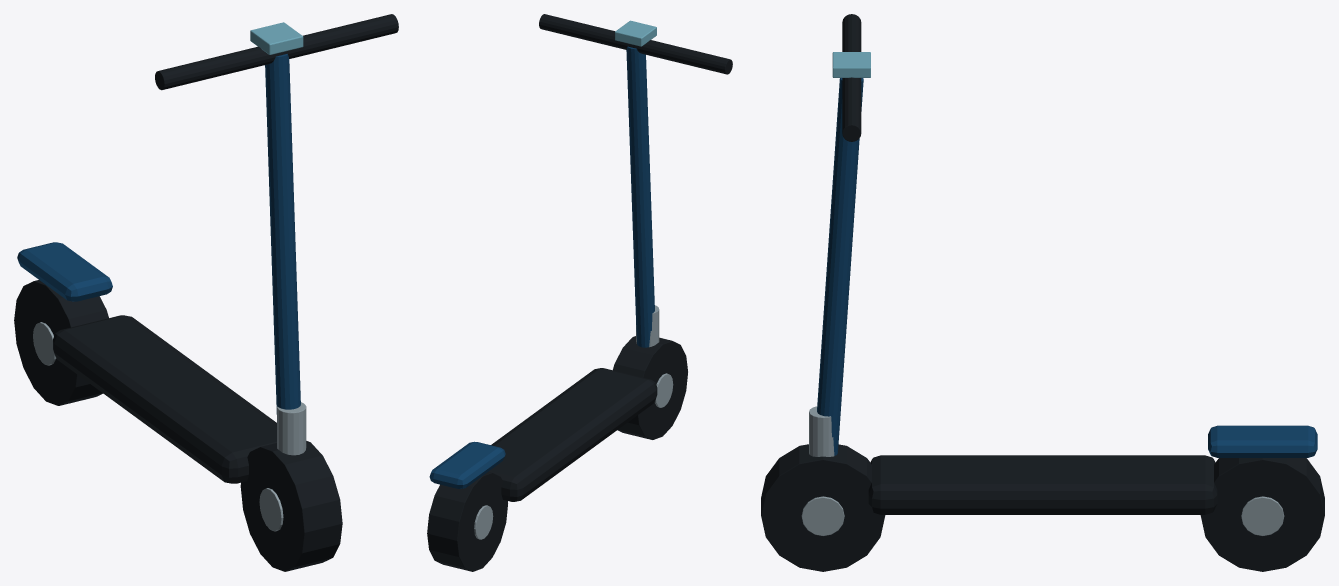
Rendered from edited.glb.
The picture shows the model from 3 angles, left to right: view 1: azimuth 30°, elevation 25°; view 2: azimuth 150°, elevation 25°; view 3: azimuth 270°, elevation 25°; orthographic projection. The views are drawn at different scales.
Visible parts, largest first — view 1: DECK, WHEEL_Axle, STEM, WHEEL_Axle.001, HANDLE, BRAKE_Fender, FORK, DISPLAY, WHEEL_Hub, WHEEL_Hub.001; view 2: DECK, STEM, WHEEL_Axle.001, WHEEL_Axle, HANDLE, BRAKE_Fender, DISPLAY, WHEEL_Hub.001, WHEEL_Hub; view 3: DECK, WHEEL_Axle, WHEEL_Axle.001, STEM, BRAKE_Fender, HANDLE, WHEEL_Hub, WHEEL_Hub.001, FORK, DISPLAY.
Boxes of the visible parts, x1,y1,x2,y2 form: DECK: (53,315,276,483); WHEEL_Axle: (240,441,342,571); STEM: (265,54,300,414); WHEEL_Axle.001: (14,280,108,405); HANDLE: (155,14,398,90); BRAKE_Fender: (17,242,112,301); FORK: (277,402,306,455); DISPLAY: (250,22,303,54); WHEEL_Hub: (259,488,283,531); WHEEL_Hub.001: (33,322,56,365); DECK: (489,368,657,501); STEM: (626,46,654,347); WHEEL_Axle.001: (427,471,507,571); WHEEL_Axle: (613,336,687,439); HANDLE: (539,14,732,74); BRAKE_Fender: (429,441,505,488); DISPLAY: (615,20,656,46); WHEEL_Hub.001: (474,505,493,539); WHEEL_Hub: (654,373,673,407); DECK: (868,455,1217,514); WHEEL_Axle: (761,444,885,571); WHEEL_Axle.001: (1200,458,1324,571); STEM: (817,78,863,455); BRAKE_Fender: (1208,425,1317,457); HANDLE: (842,14,861,141); WHEEL_Hub: (801,496,844,535); WHEEL_Hub.001: (1241,496,1284,535); FORK: (809,406,834,456); DISPLAY: (832,52,870,77).
Size of the model in its own units: 0.55 by 1.16 by 1.18.
